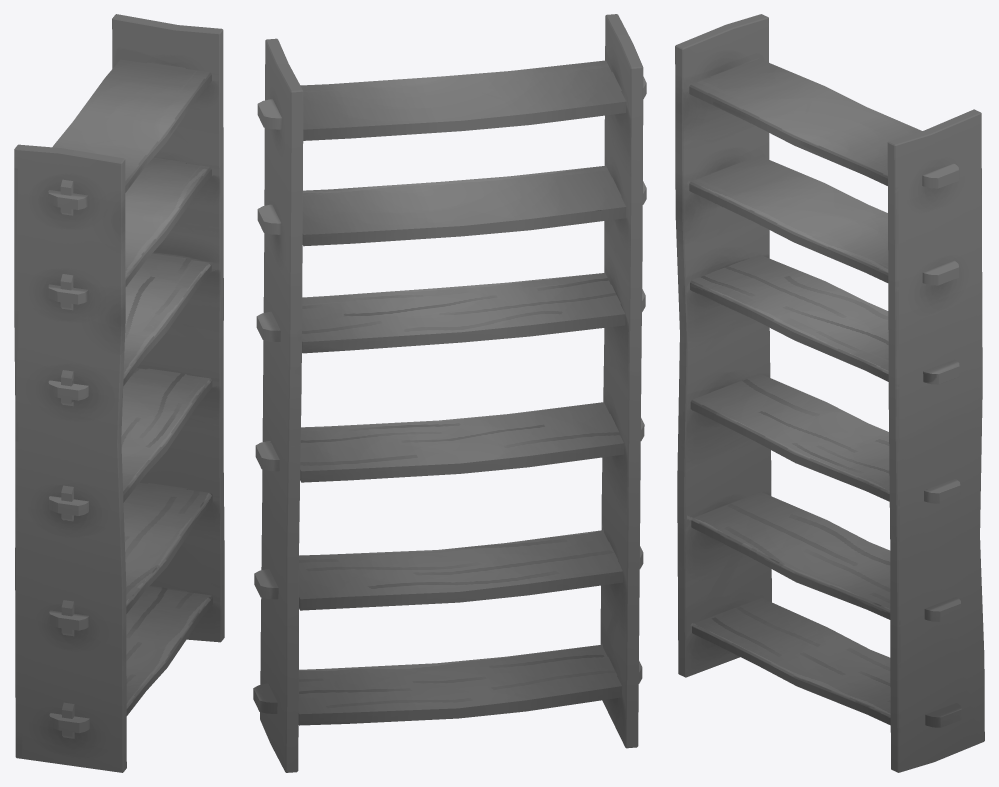
Rendered from shelf.glb.
3 views of the same model, side by side, from view 1: azimuth 30°, elevation 25°; view 2: azimuth 150°, elevation 25°; view 3: azimuth 270°, elevation 25° (orthographic). The views are drawn at different scales.
Parts seen in each view (by area): view 1: BigShelf; view 2: BigShelf; view 3: BigShelf.
Boxes of the visible parts, x1,y1,x2,y2 form: BigShelf: (14, 14, 224, 772); BigShelf: (253, 14, 646, 772); BigShelf: (675, 14, 984, 772).
Size of the model in its own units: 1.87 by 3.99 by 1.77.
1 material, 1 textured.
